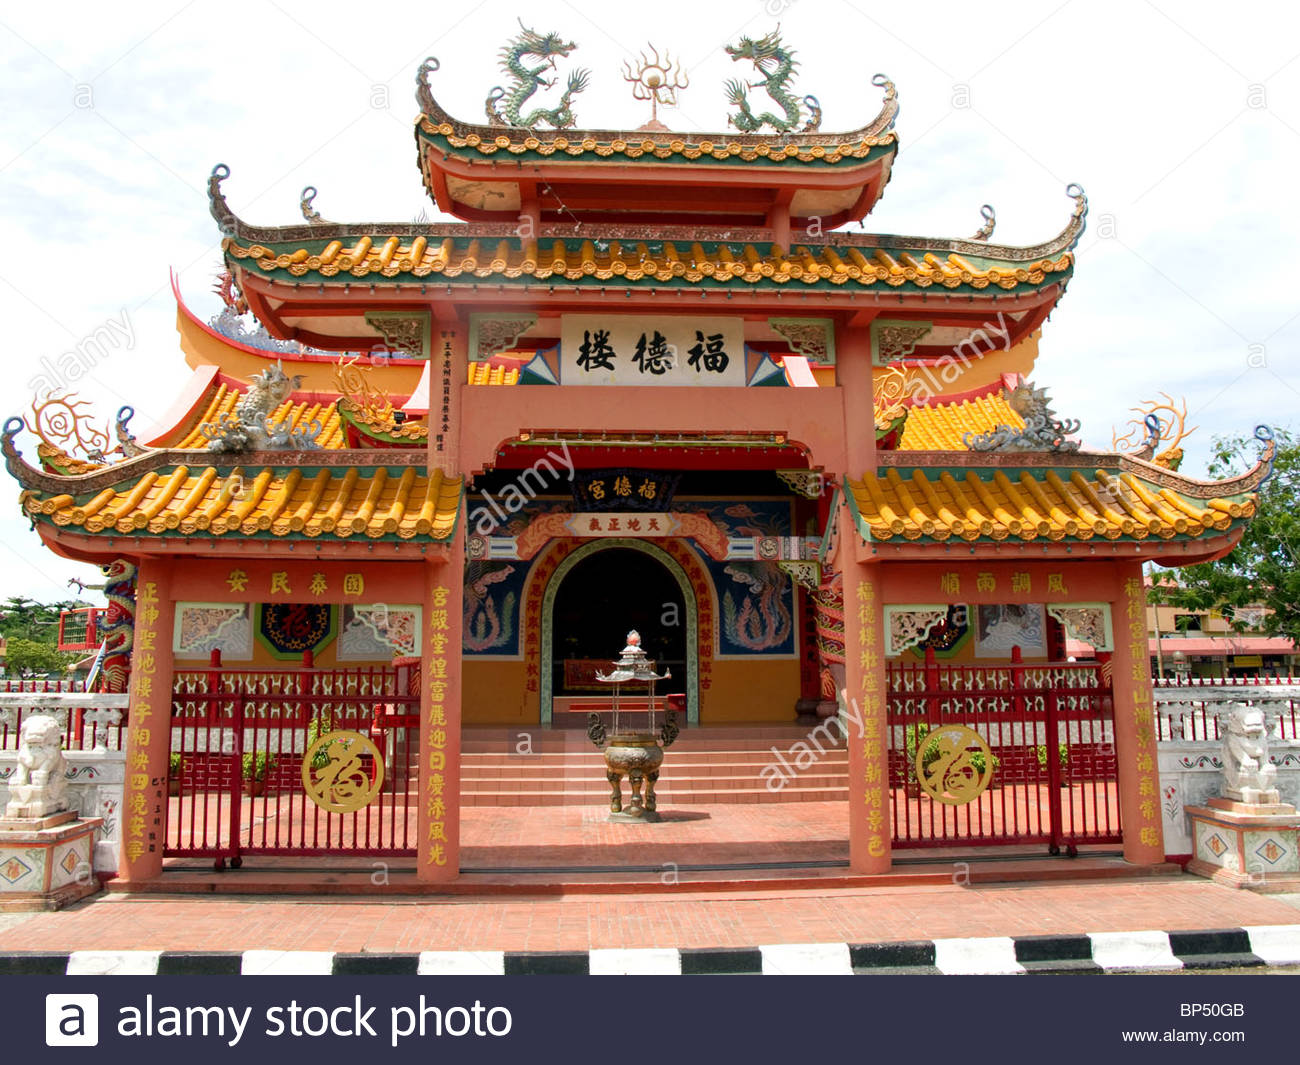Buddhist Temple: (95, 41, 1224, 878)
